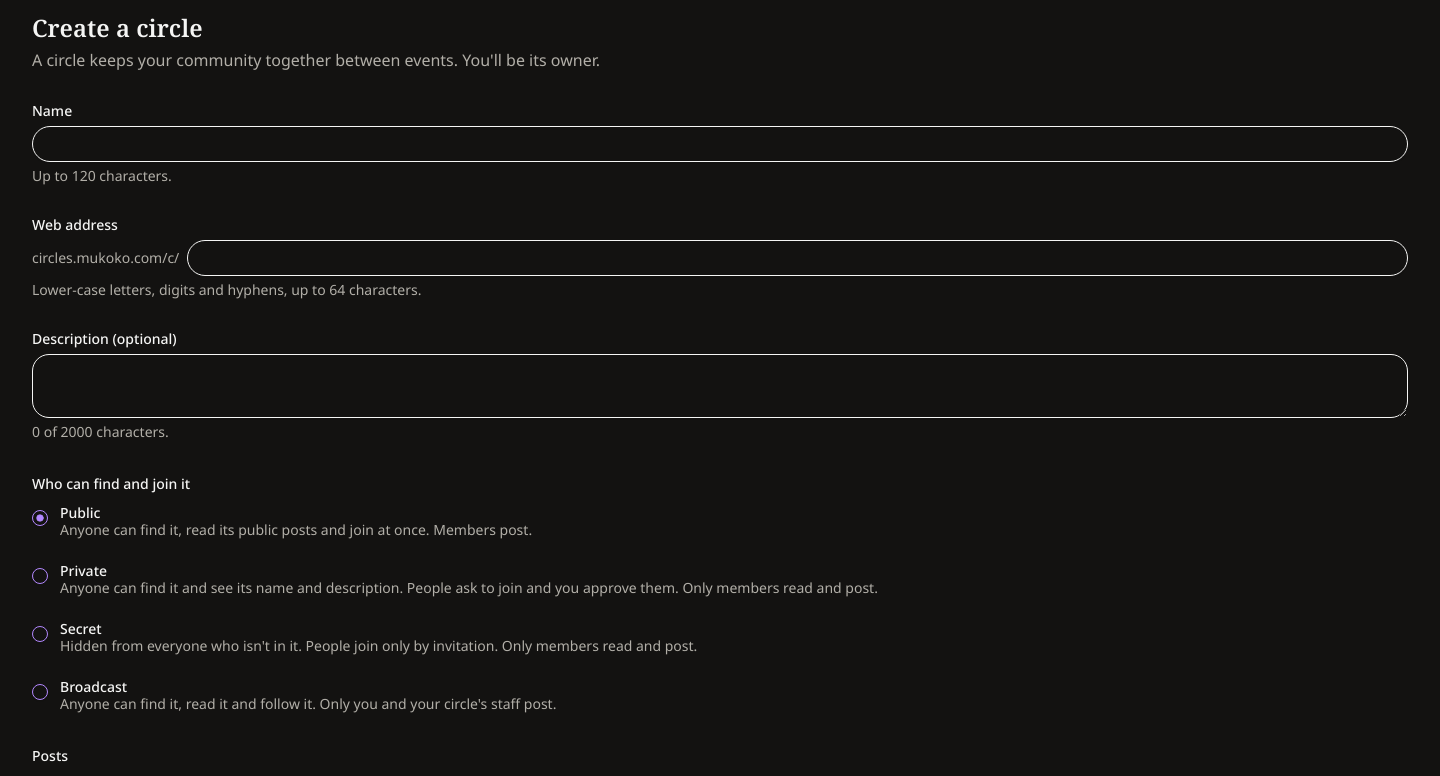
it: CreateCircleForm › offers another slug when the address is taken
In the field labelled "Name": (720, 144) 32,126 -> 1408,162, type "Harare Makers"
(page scrolled)
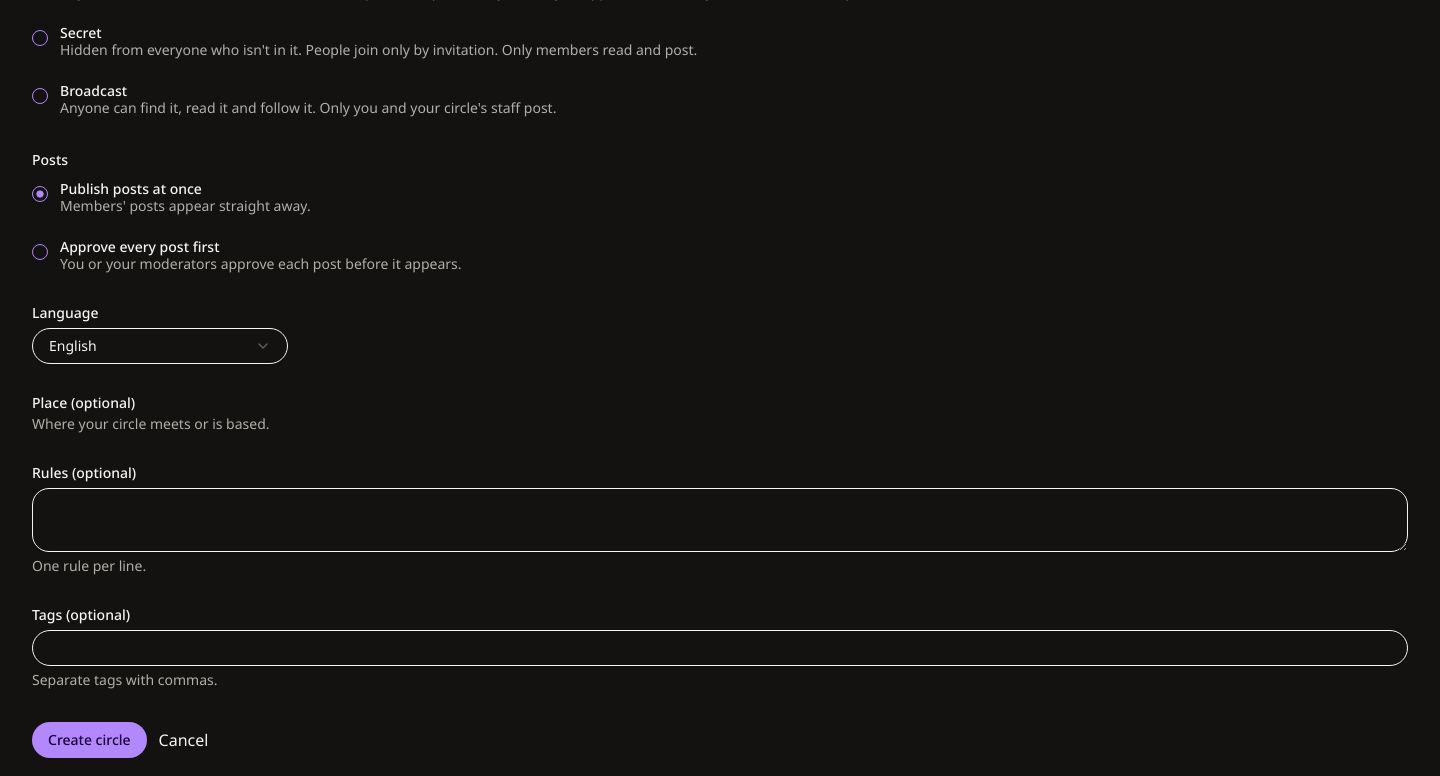
Click the button "Create circle": (89, 740) 32,722 -> 147,758
(page scrolled)
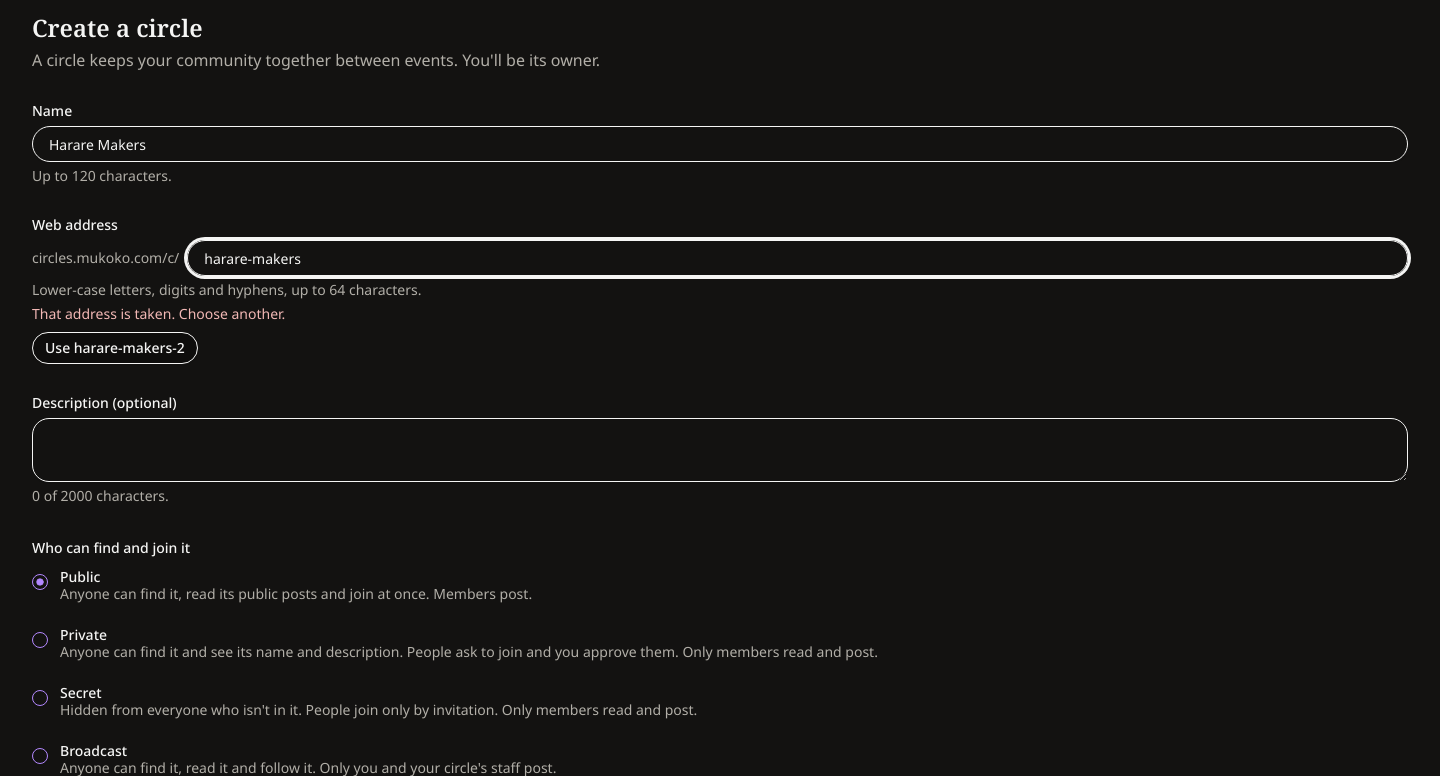
expect the text "That address is taken. Choose another." is shown: met, box 32,304 -> 285,323
Click the button "Use harare-makers-2": (115, 348) 32,332 -> 198,364
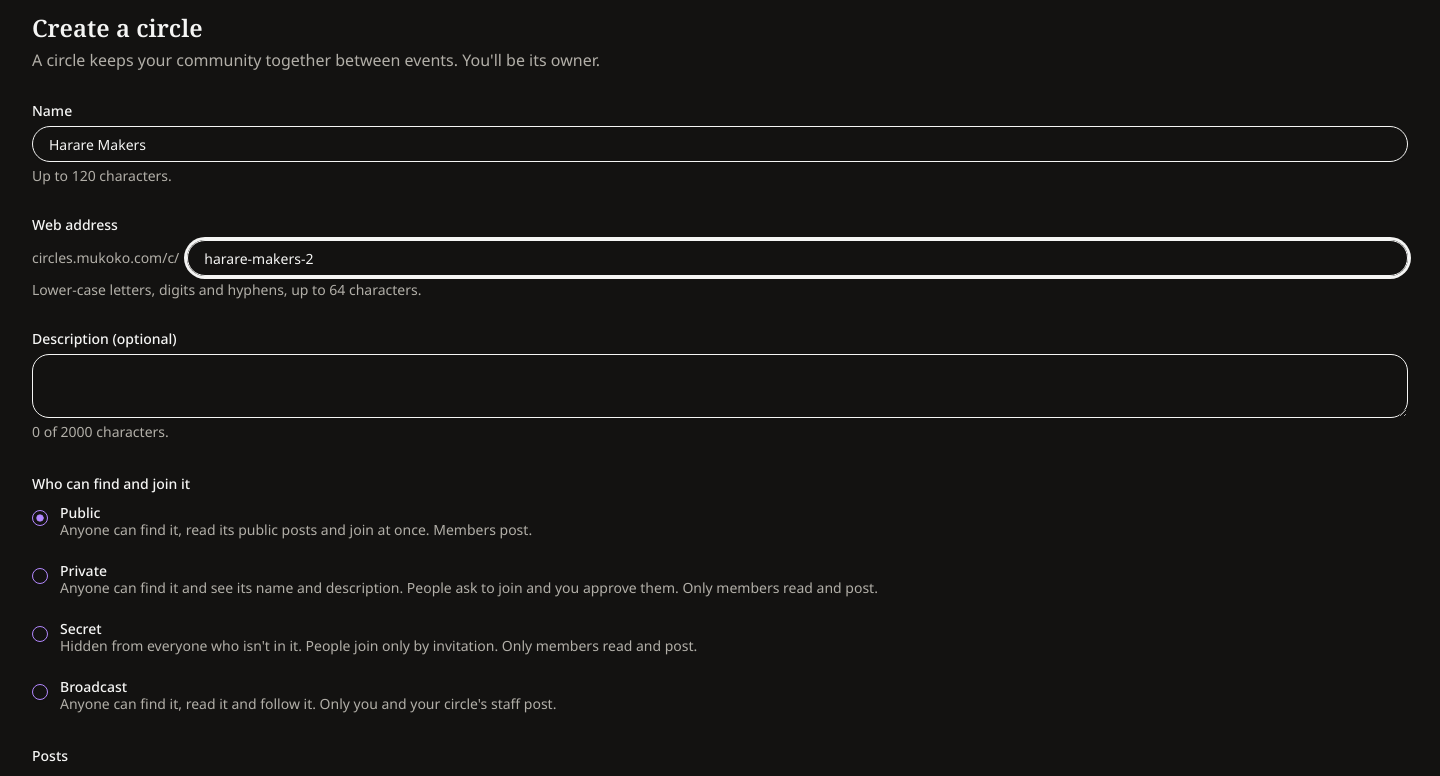
expect the field labelled "Web address" holds "harare-makers-2": met, box 187,240 -> 1408,276
expect the text "That address is taken. Choose another." is gone: met
